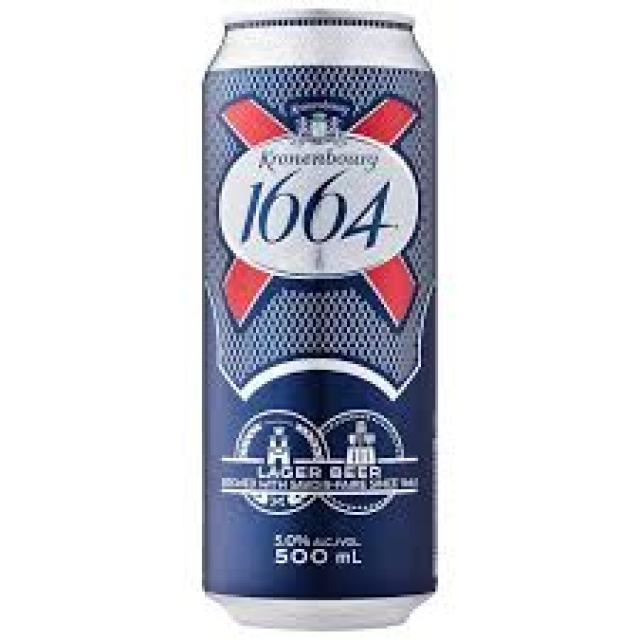recyclable: (200, 9, 440, 627)
